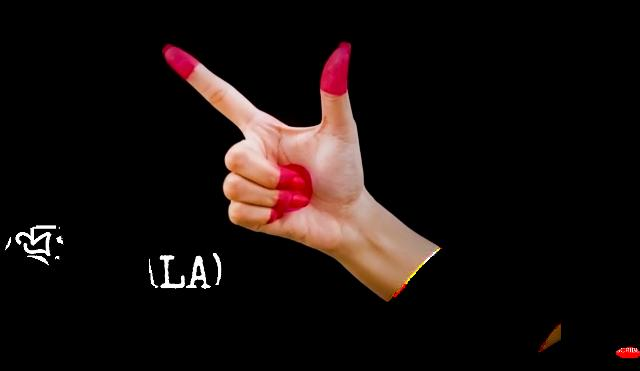chandrakala: (167, 46, 441, 312)
